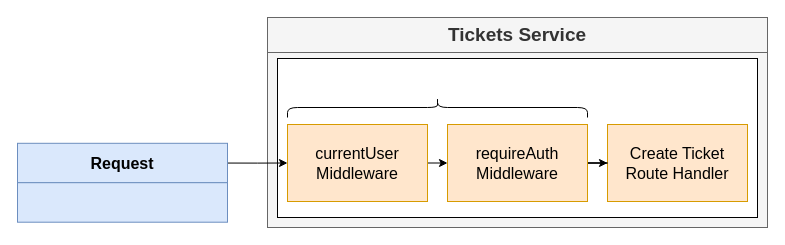
Some shapes in this 785 by 245 pixel diagram are drawn without their labels. Here are the shapes that lost their labels. From the top down, the centre of each, then its label:
At pixel 437 107: "Implemented by common module!".
At pixel 122 202: "Cookie containing { jwt: 'slkdf' }".
